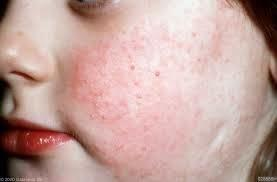Acne: (65, 31, 241, 182)
